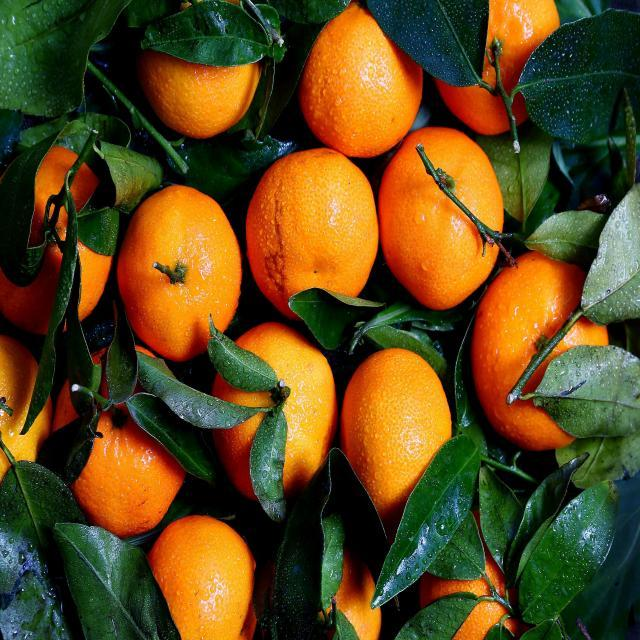Jeruk Sudah Matang: (479, 255, 614, 450), (372, 118, 506, 314), (61, 344, 190, 534), (244, 149, 382, 315), (119, 180, 243, 363), (2, 142, 112, 336), (217, 327, 334, 507), (337, 346, 451, 514), (432, 0, 566, 142), (302, 8, 427, 152), (136, 0, 262, 142), (408, 507, 506, 640), (162, 514, 256, 640), (0, 338, 55, 516), (318, 550, 384, 640)
